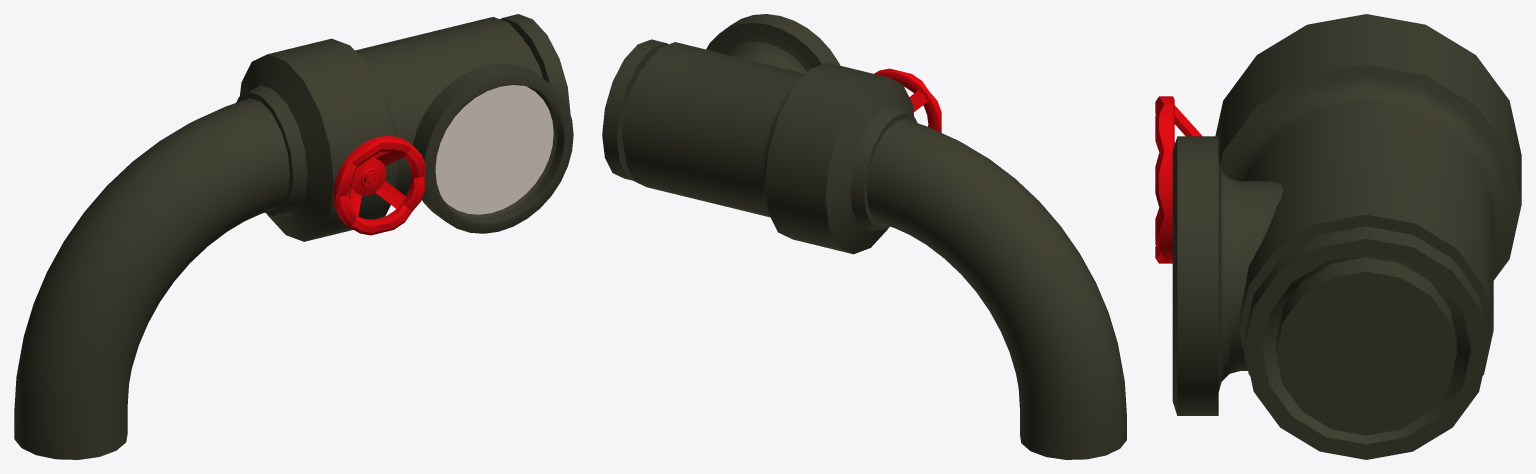
File: Barometer-M00A.fbx
3 renders of one model, left to right at view 1: azimuth 30°, elevation 25°; view 2: azimuth 150°, elevation 25°; view 3: azimuth 270°, elevation 25°, orthographic. The views are drawn at different scales.
Visible parts, largest first — view 1: Barometer-M00A, Valve; view 2: Barometer-M00A, Valve; view 3: Barometer-M00A, Valve.
Part boxes in pixels (<box>): Barometer-M00A: <box>14,14,573,459</box>; Valve: <box>333,135,425,235</box>; Barometer-M00A: <box>602,14,1126,459</box>; Valve: <box>874,68,941,132</box>; Barometer-M00A: <box>1172,14,1521,459</box>; Valve: <box>1155,96,1202,263</box>.
Bounding box in the file's own units: 316 × 189 × 120.
